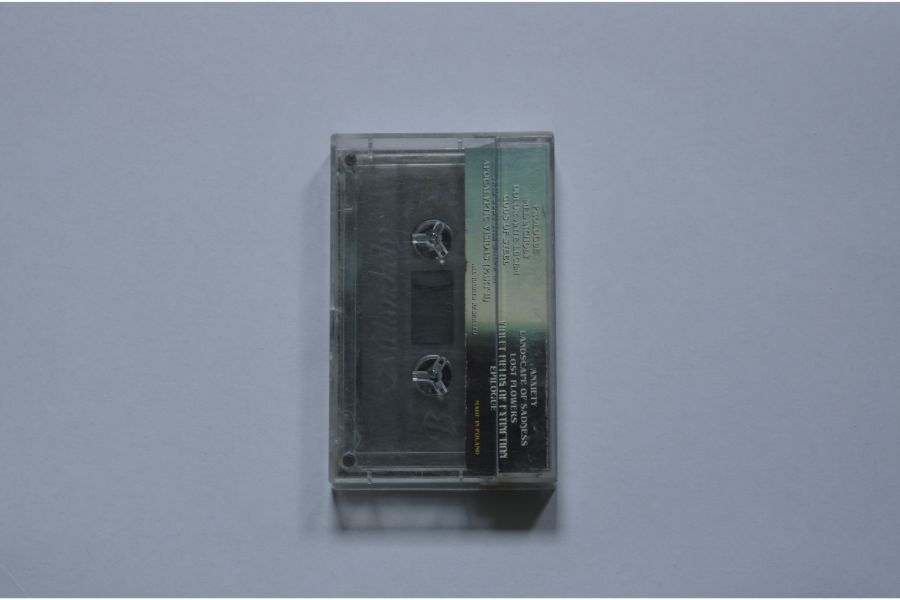album: (327, 129, 563, 498)
